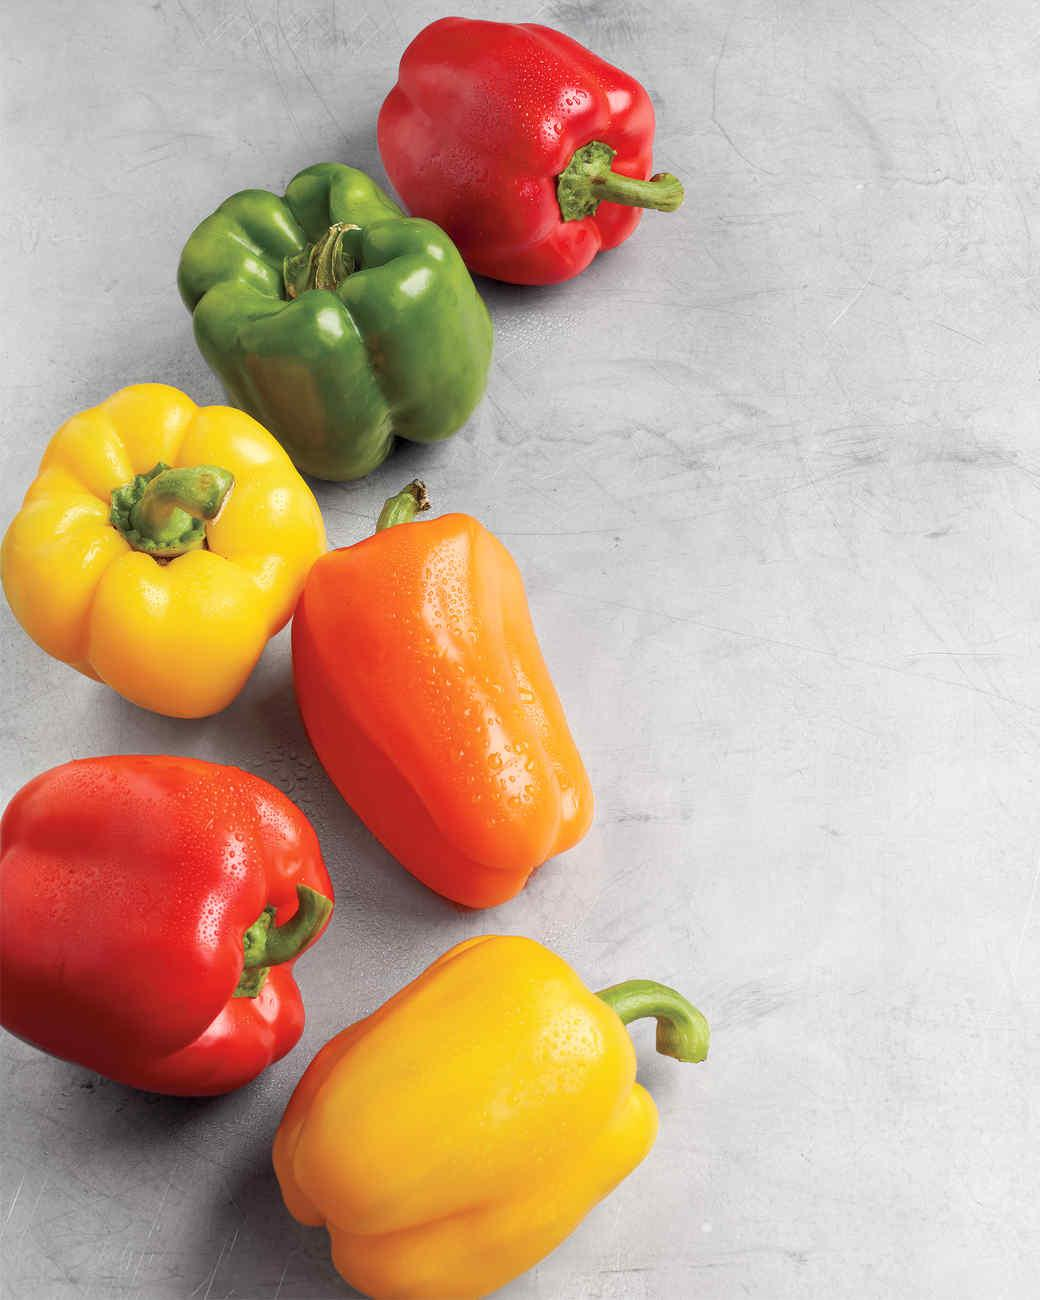bell pepper: (270, 931, 710, 1297), (289, 476, 595, 911), (0, 751, 334, 1099), (1, 380, 326, 720), (175, 159, 495, 483), (375, 14, 684, 287)
